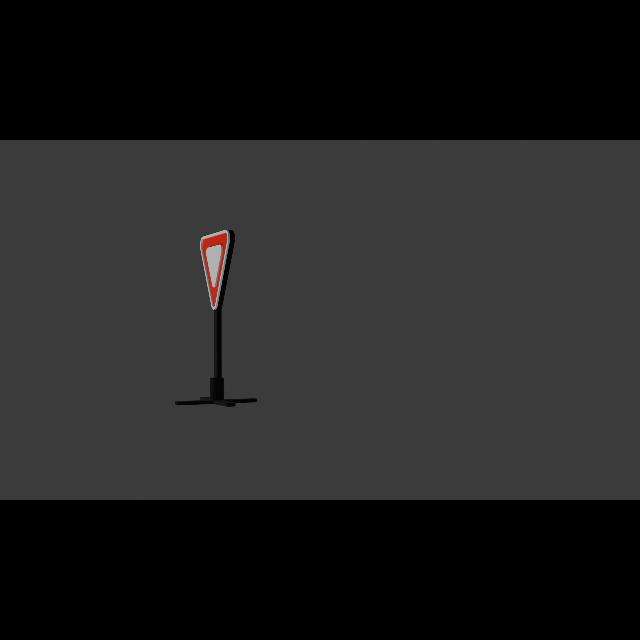sign_yield: (201, 230, 234, 310)
